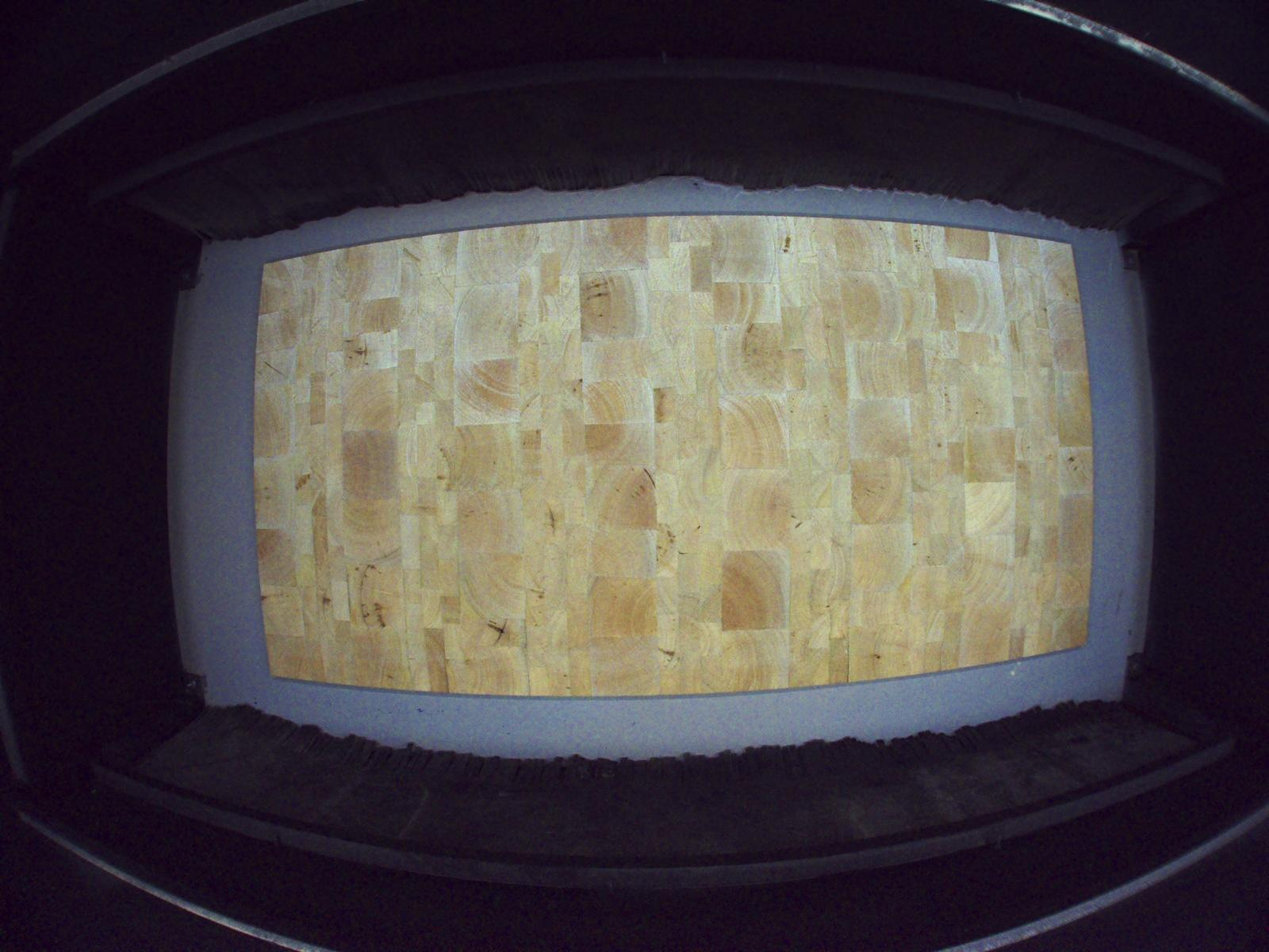sheck_ecuatoriano: (487, 618, 508, 646)
